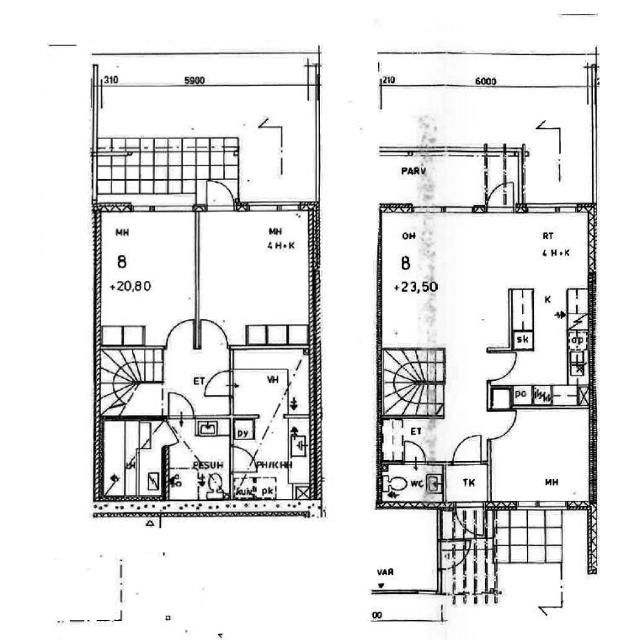door: (481, 346, 522, 386), (162, 389, 194, 435), (448, 430, 486, 467), (202, 178, 239, 215), (162, 315, 198, 351), (450, 503, 484, 539), (195, 316, 230, 350), (484, 408, 519, 442), (200, 368, 236, 400), (485, 181, 514, 213), (398, 438, 428, 467), (229, 445, 257, 473), (438, 548, 469, 571)
window: (100, 196, 200, 216), (238, 196, 307, 219), (520, 199, 580, 219), (509, 496, 571, 514)
zone: (193, 204, 319, 348), (94, 204, 198, 348), (488, 404, 595, 509), (501, 286, 592, 405), (227, 416, 312, 503), (229, 346, 313, 416), (162, 419, 230, 502), (97, 417, 163, 502), (377, 345, 445, 415), (379, 461, 445, 511), (389, 424, 433, 467), (508, 288, 534, 330)
